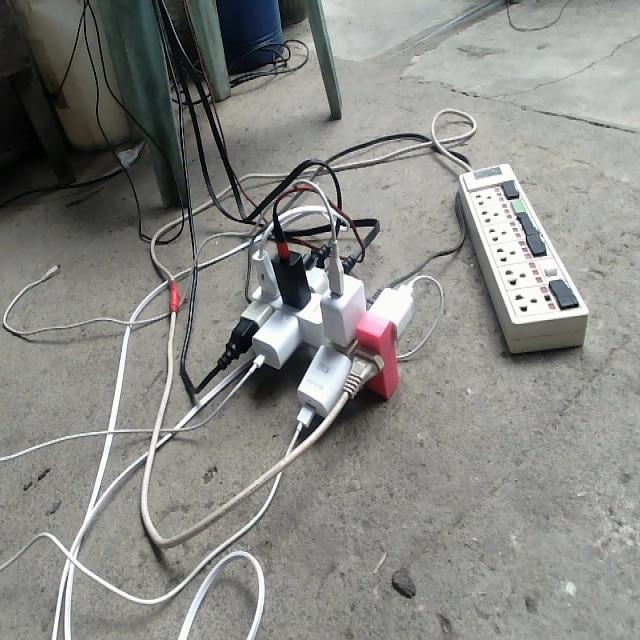-: (212, 203, 417, 437)
